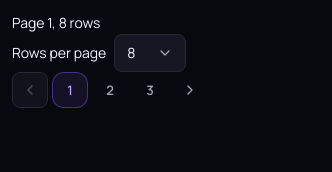
table controls › changes rows per page through the existing Select primitive
Select "16" in the dropdown labelled "Rows per page": (150, 53) [115,35,185,71]
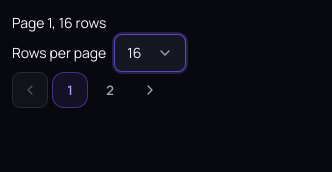
Now the text named "Pagination state" reads "Page 1, 16 rows", box [12,13,106,32]
